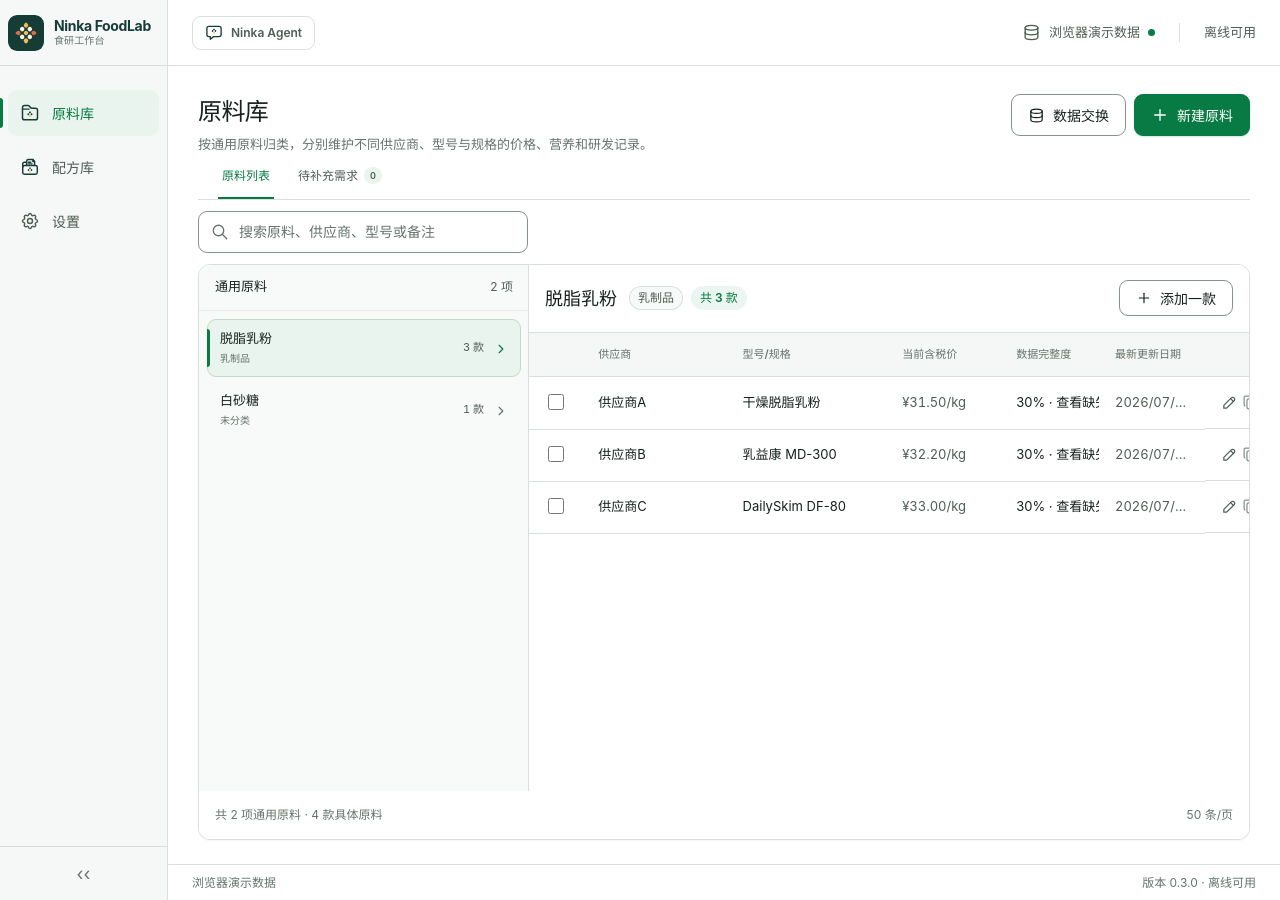
Test case: ingredient library supplier hierarchy › adds or edits a supplier version from an expanded material group
Click the button with aria-label "查看 脱脂乳粉 的具体原料" at (246, 338), box [207, 318, 521, 376]
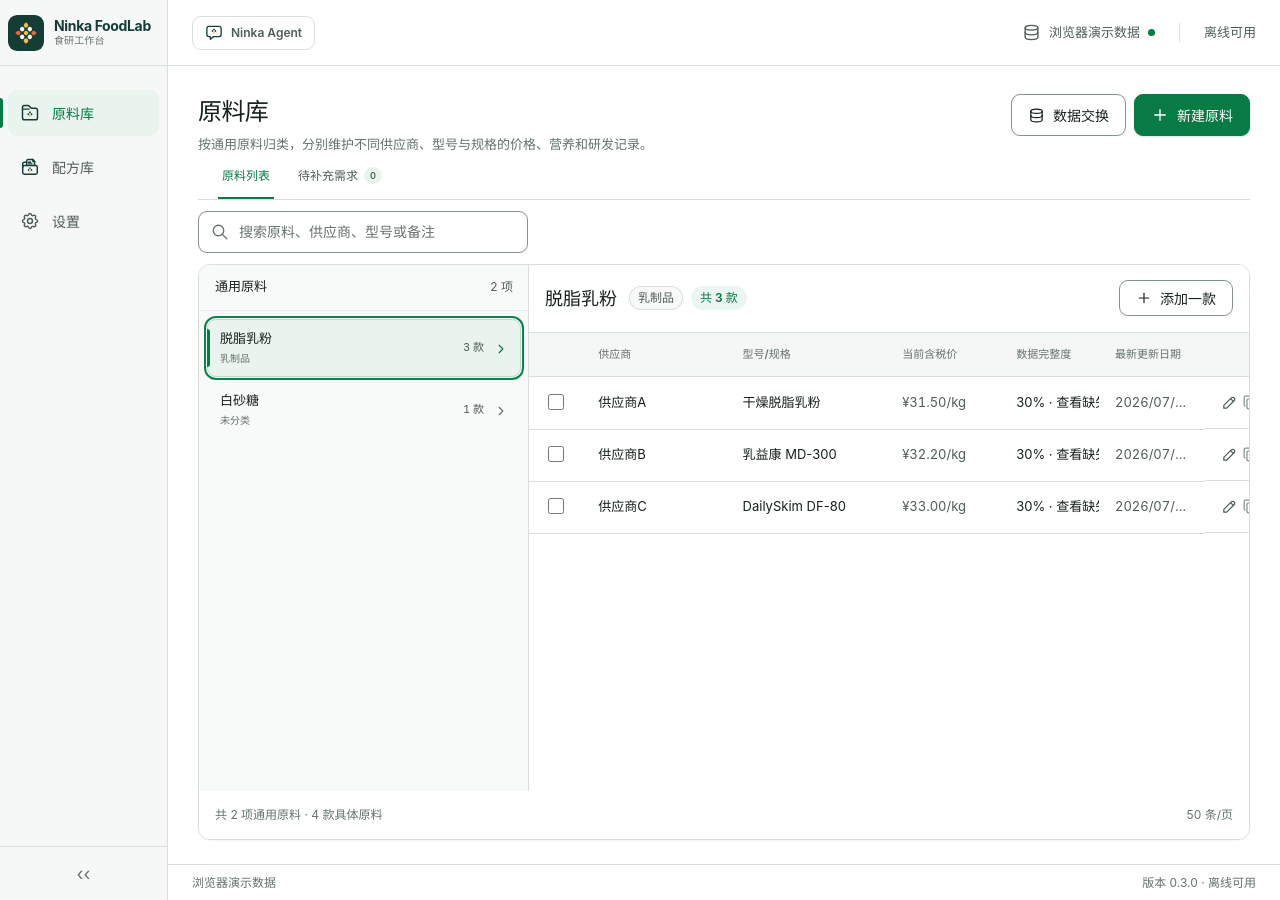
Click the button with aria-label "为 脱脂乳粉 添加一款" at (1176, 298), box [1119, 280, 1233, 316]
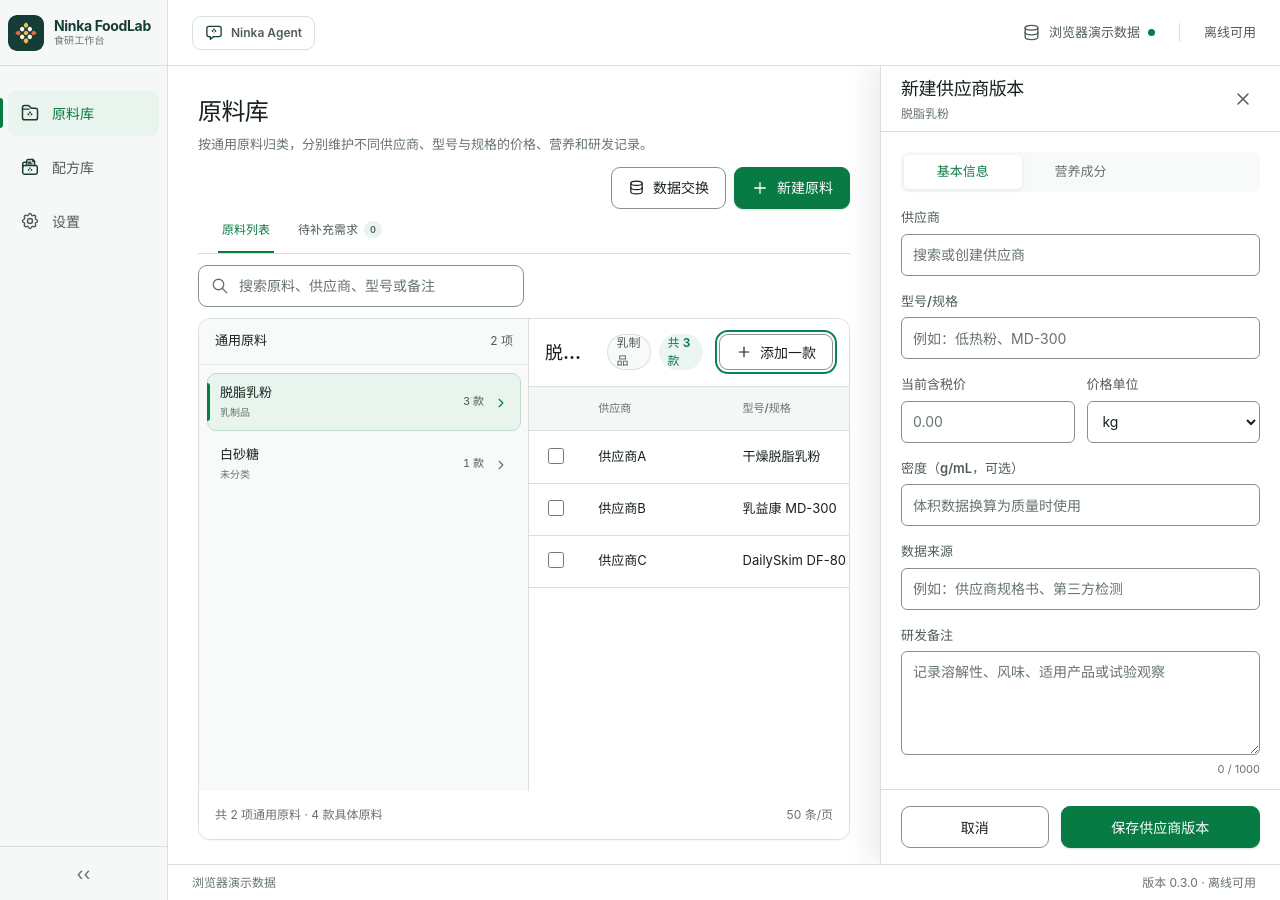
Check: the dialog "新建供应商版本" is shown, box [880, 66, 1279, 864]
Click the button named "关闭供应商版本编辑器" at (1243, 98), box [1226, 82, 1260, 116]
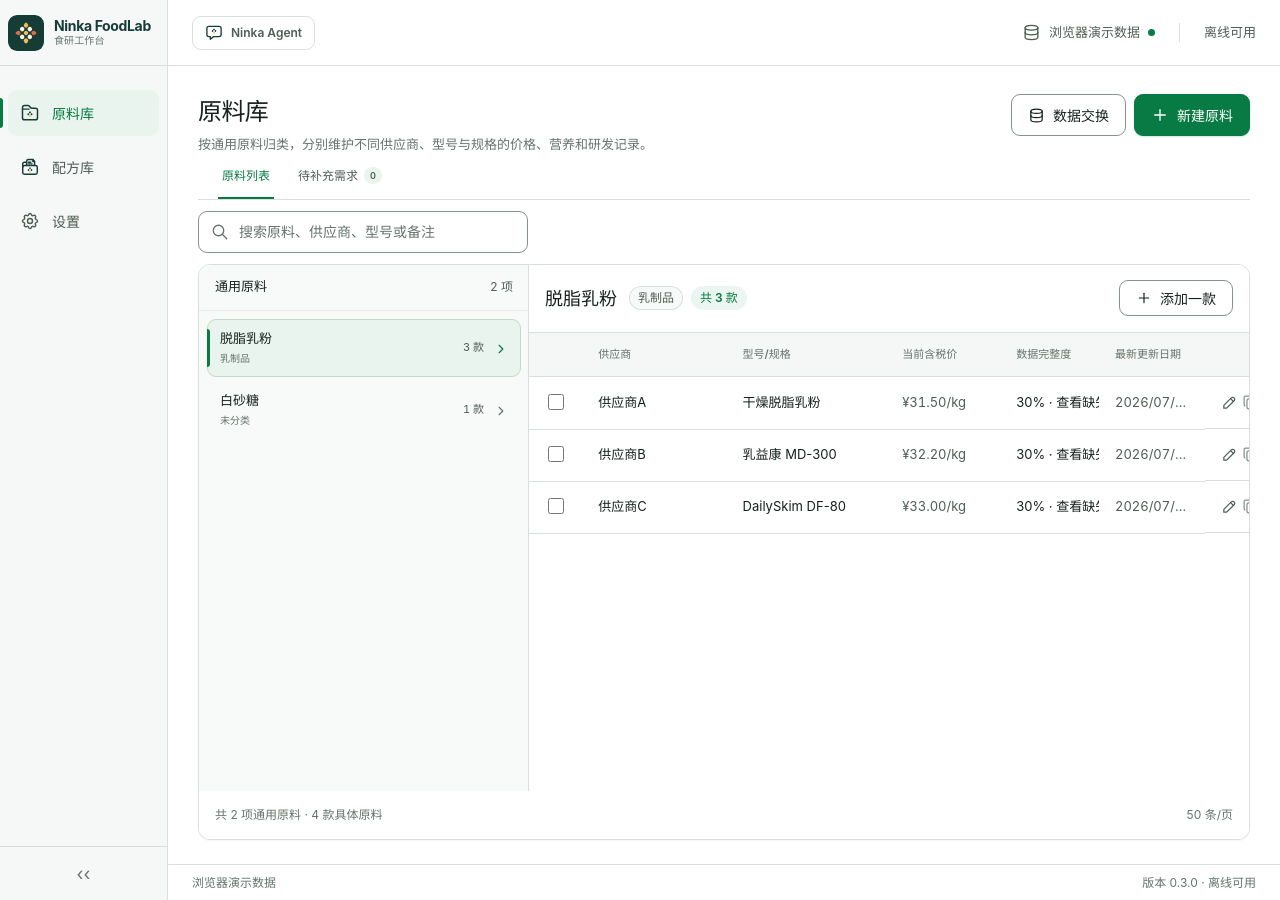
Click the button named "编辑 脱脂乳粉 · 供应商B · 乳益康 MD-300" at (1230, 454), box [1221, 438, 1238, 472]
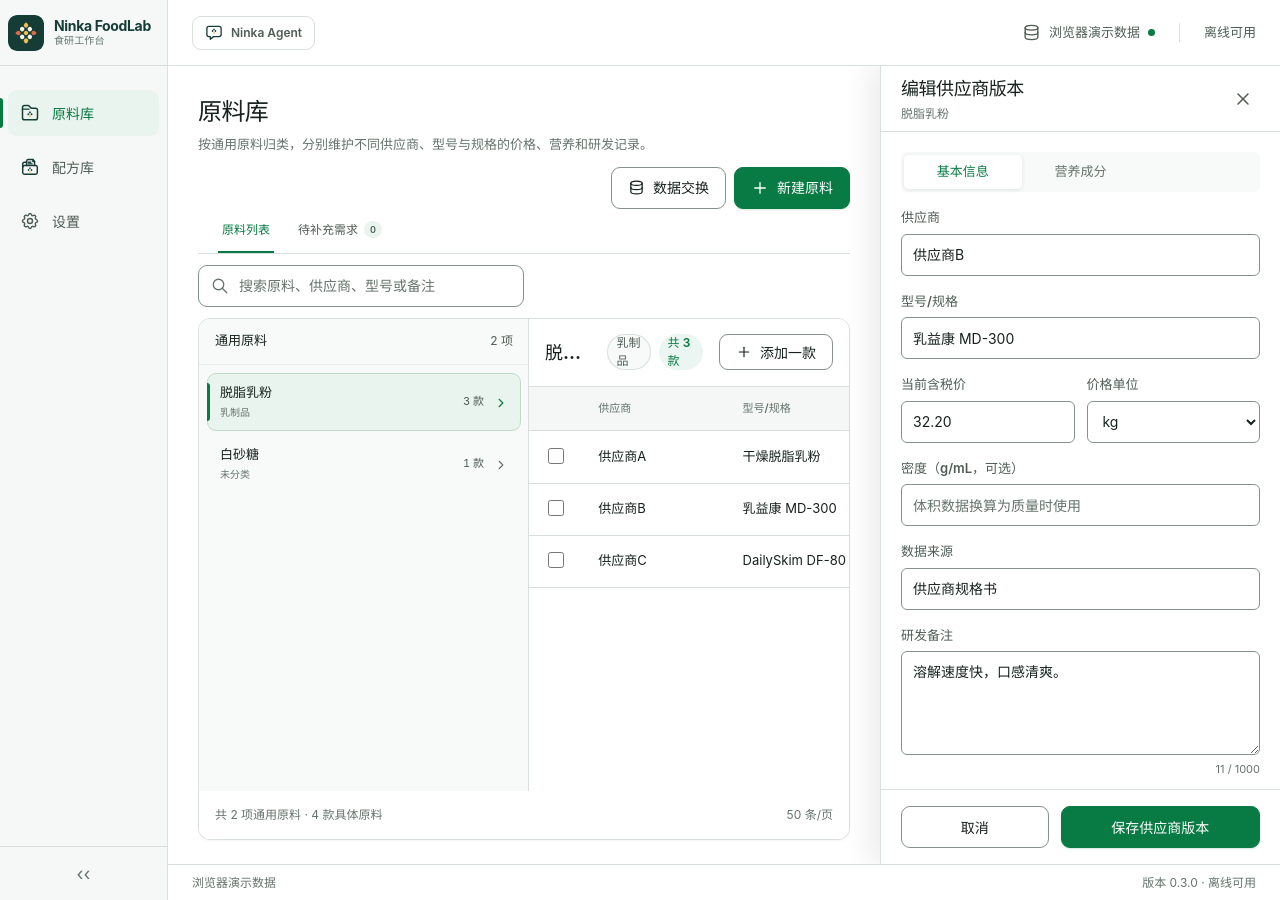
Check: the dialog "编辑供应商版本" is shown, box [880, 66, 1279, 864]
